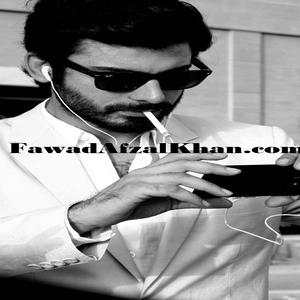cigarette: (144, 109, 171, 139)
